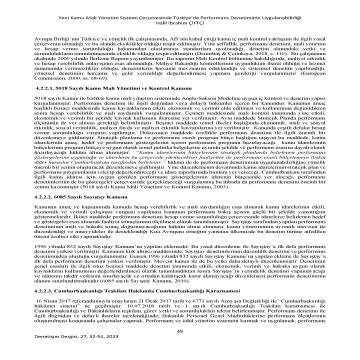header: (56, 13, 306, 29)
